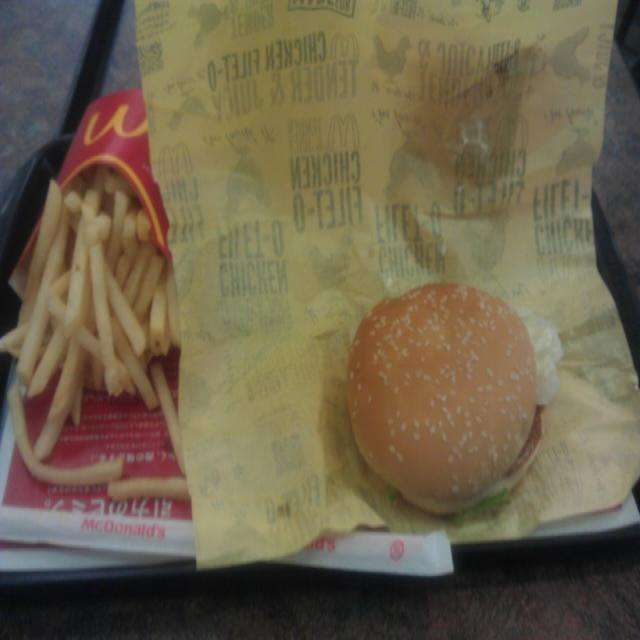French Fries: (11, 175, 192, 420)
Hamburger: (344, 274, 554, 517)
